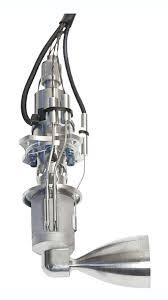thruster: (74, 233, 154, 291)
